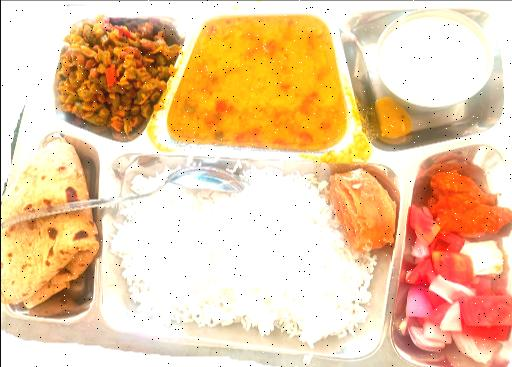Curd: (364, 9, 504, 114)
Dal: (180, 23, 334, 140)
Pickle: (429, 155, 512, 227)
Rice: (104, 159, 392, 337)
Roti: (0, 139, 98, 316)
Salad: (398, 239, 512, 356)
Sweet: (328, 174, 401, 258)
Vegetable: (44, 25, 169, 126)
